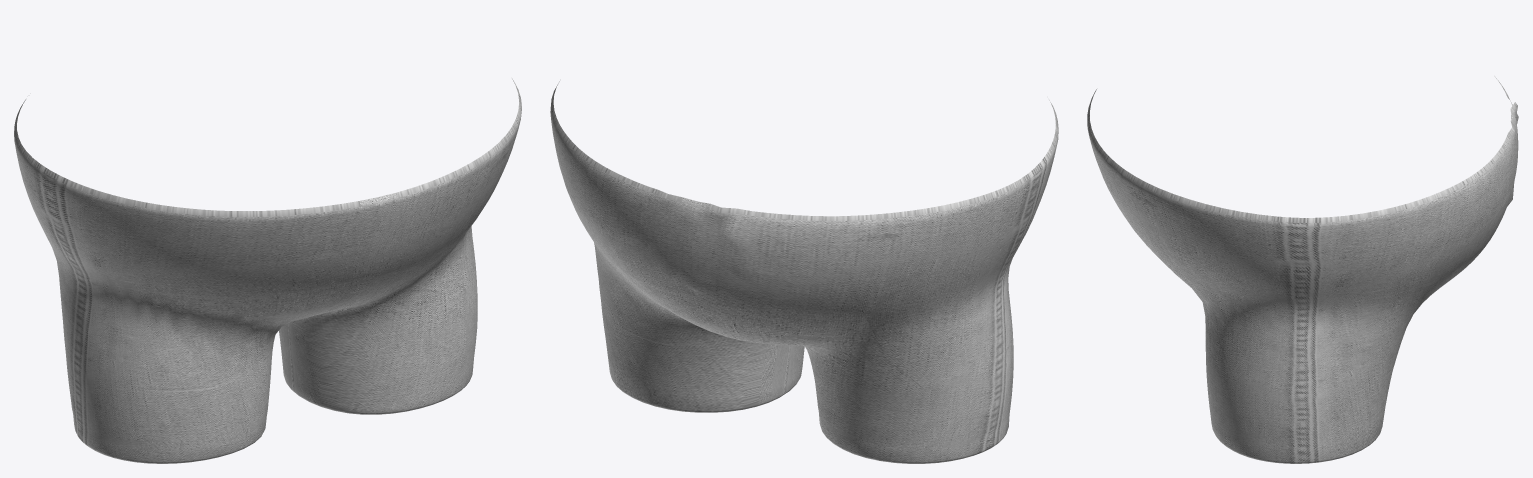
File: hb_DANIEL_pants.gltf
3 renders of one model, left to right at view 1: azimuth 30°, elevation 25°; view 2: azimuth 150°, elevation 25°; view 3: azimuth 270°, elevation 25°, orthographic. The views are drawn at different scales.
Visible parts, largest first — view 1: hb_DANIEL_pants; view 2: hb_DANIEL_pants; view 3: hb_DANIEL_pants.
Part boxes in pixels (<box>): hb_DANIEL_pants: <box>14,78,521,463</box>; hb_DANIEL_pants: <box>550,81,1058,463</box>; hb_DANIEL_pants: <box>1087,76,1518,463</box>.
Bounding box in the file's own units: 0.0328 × 0.0199 × 0.0291.
Materials: 1 (1 with a texture image).
